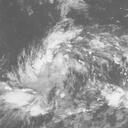cyclone: (24, 33, 110, 115)
